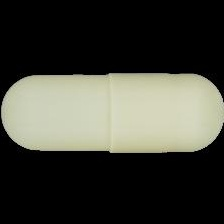61786-812: (0, 0, 224, 224)
